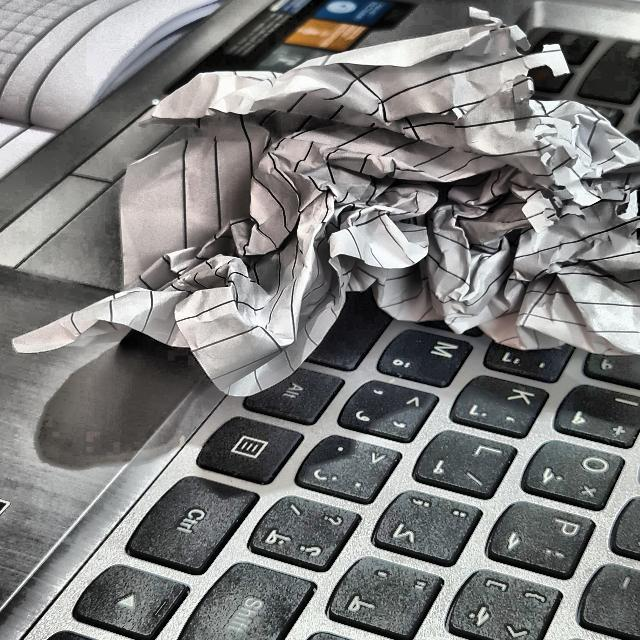paper: (53, 4, 640, 408)
